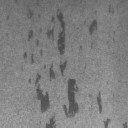red iron: (28, 61, 80, 128), (44, 10, 66, 56), (23, 30, 44, 64), (96, 91, 110, 128), (88, 19, 98, 35), (27, 7, 35, 18), (123, 122, 128, 128)
